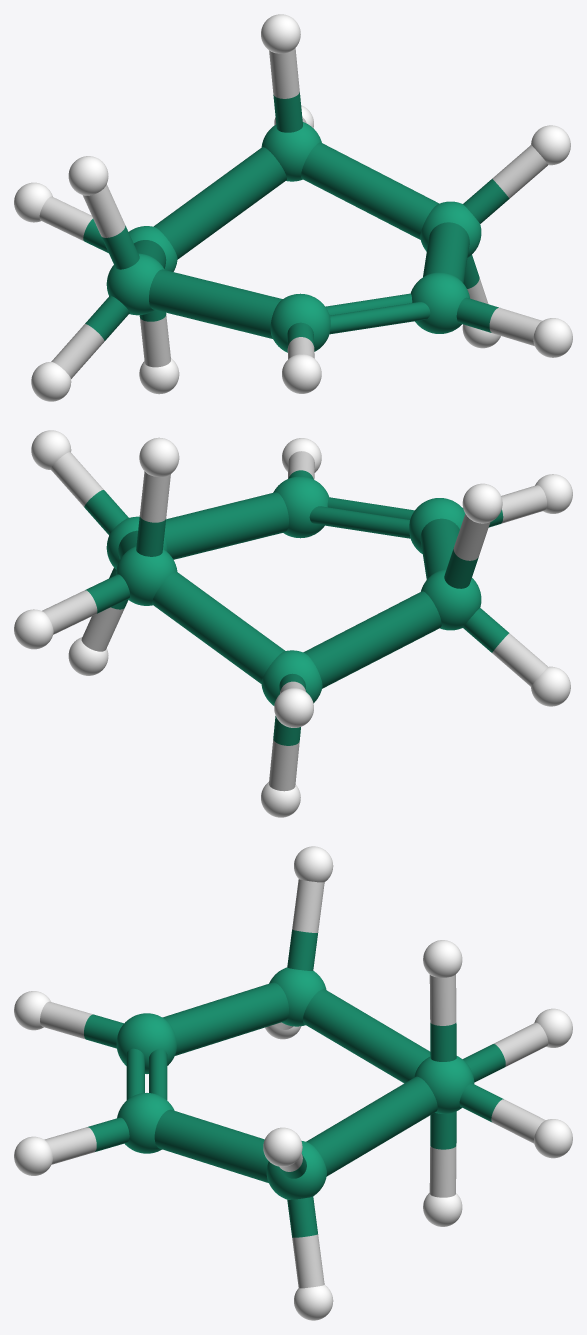
Rendered from CYCLOHEXENE.MOL2.gltf.
3 views of the same model, one above another, from view 1: azimuth 30°, elevation 25°; view 2: azimuth 150°, elevation 25°; view 3: azimuth 270°, elevation 25° (orthographic).
Visible parts, largest first — view 1: Node #1, Node #0; view 2: Node #1, Node #0; view 3: Node #1, Node #0.
Boxes of the visible parts, x1=… form: Node #1: x1=39, y1=48, x2=548, y2=378; Node #0: x1=14, y1=14, x2=572, y2=401; Node #1: x1=42, y1=451, x2=547, y2=791; Node #0: x1=14, y1=430, x2=572, y2=817; Node #1: x1=40, y1=879, x2=548, y2=1288; Node #0: x1=14, y1=846, x2=572, y2=1320.
Bounding box in the file's own units: 5.09 × 3.16 × 4.68.
